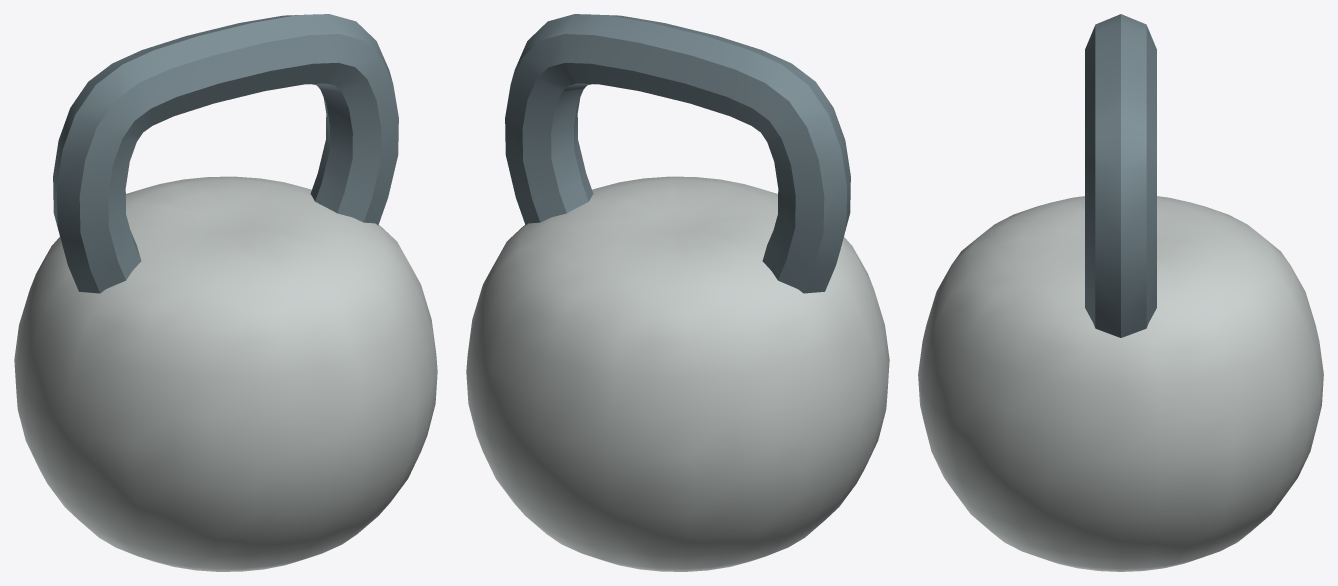
File: kettlebell.glb
The picture shows the model from 3 angles, left to right: view 1: azimuth 30°, elevation 25°; view 2: azimuth 150°, elevation 25°; view 3: azimuth 270°, elevation 25°; orthographic projection. The views are drawn at different scales.
Parts seen in each view (by area): view 1: weight, handle; view 2: weight, handle; view 3: weight, handle.
Boxes of the visible parts, <box> form: weight: <box>14,176,437,571</box>; handle: <box>53,14,398,293</box>; weight: <box>466,176,889,571</box>; handle: <box>505,14,850,293</box>; weight: <box>918,196,1323,571</box>; handle: <box>1085,14,1156,337</box>.
Bounding box in the file's own units: 0.27 × 0.3495 × 0.27.
